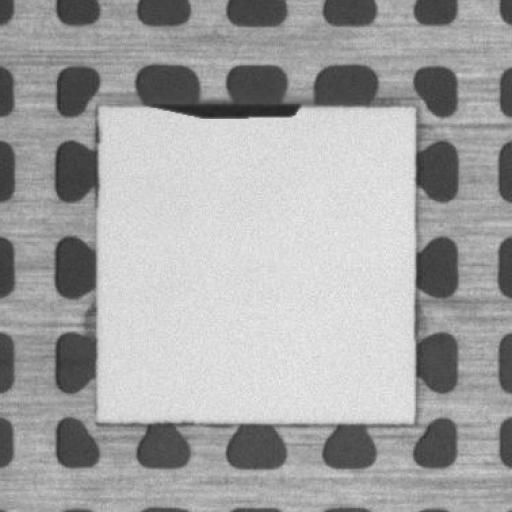DIE_BROKEN: (141, 94, 306, 119)
